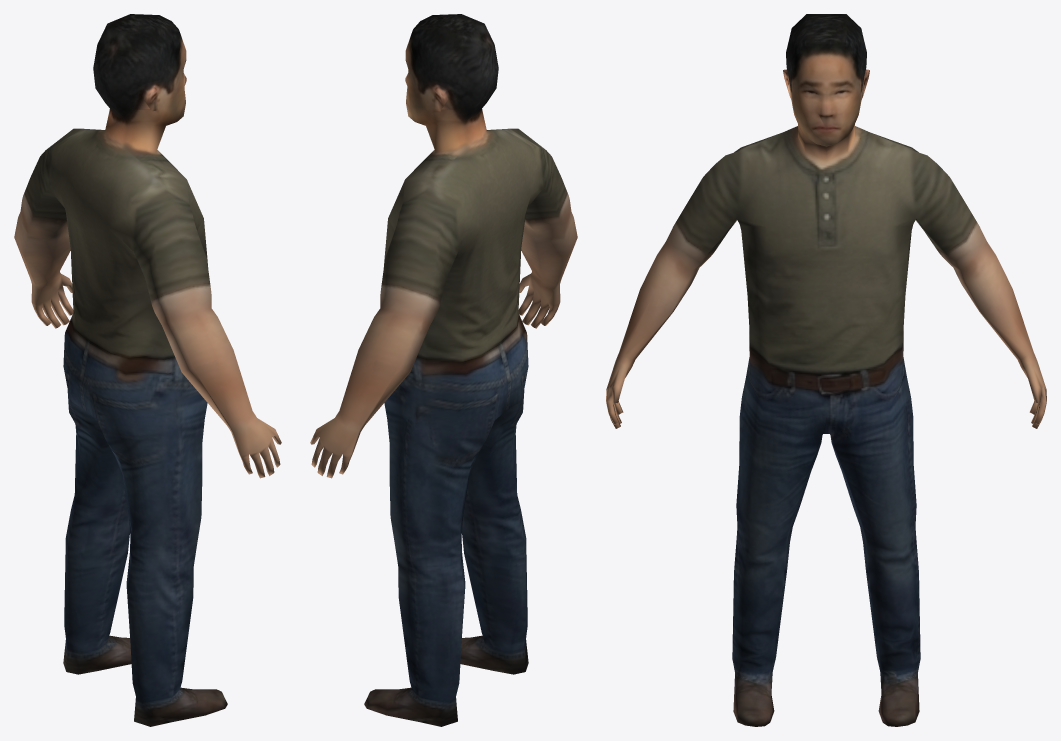
File: Character_Male_46.fbx
3 renders of one model, left to right at view 1: azimuth 30°, elevation 25°; view 2: azimuth 150°, elevation 25°; view 3: azimuth 270°, elevation 25°, orthographic. The views are drawn at different scales.
Visible parts, largest first — view 1: Character_Male_46; view 2: Character_Male_46; view 3: Character_Male_46.
Part boxes in pixels (x1,y1,x2,y2): Character_Male_46: [14, 14, 281, 726]; Character_Male_46: [310, 14, 577, 726]; Character_Male_46: [606, 14, 1046, 726].
Size of the model in its own units: 0.2876 by 1.66 by 0.9699.
